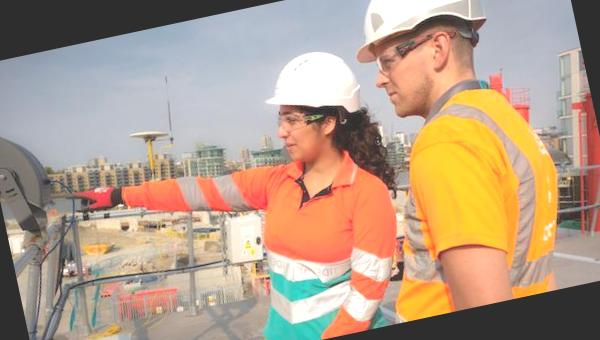helmet: (340, 0, 495, 78), (254, 41, 368, 128)
no_vest: (211, 142, 408, 340)
person: (346, 0, 571, 319), (185, 42, 413, 340)
